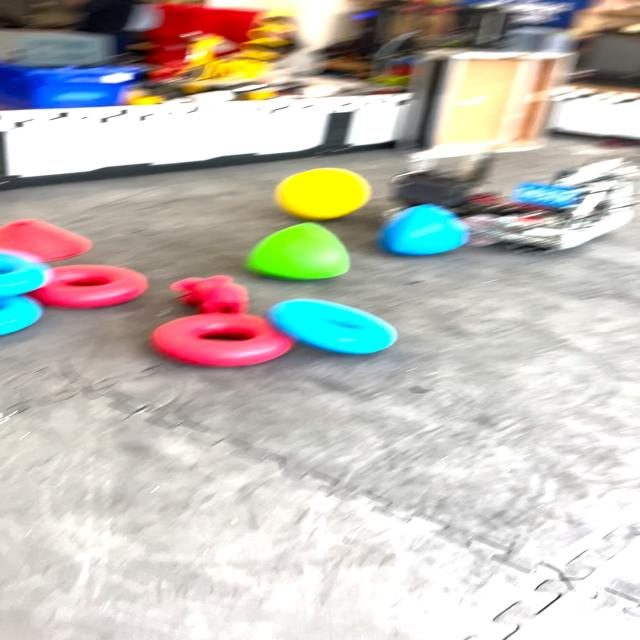Blue-Ring: (267, 299, 398, 354), (0, 252, 53, 297), (0, 296, 42, 334)
Red-Ring: (151, 312, 293, 366), (31, 265, 149, 308)
